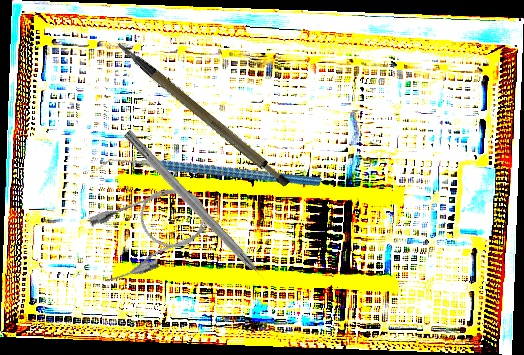Cannula: (80, 176, 220, 288)
Chopper: (95, 91, 323, 260)
Hook Surgical: (121, 128, 277, 295)
Scalpel Handle: (116, 18, 293, 207)
